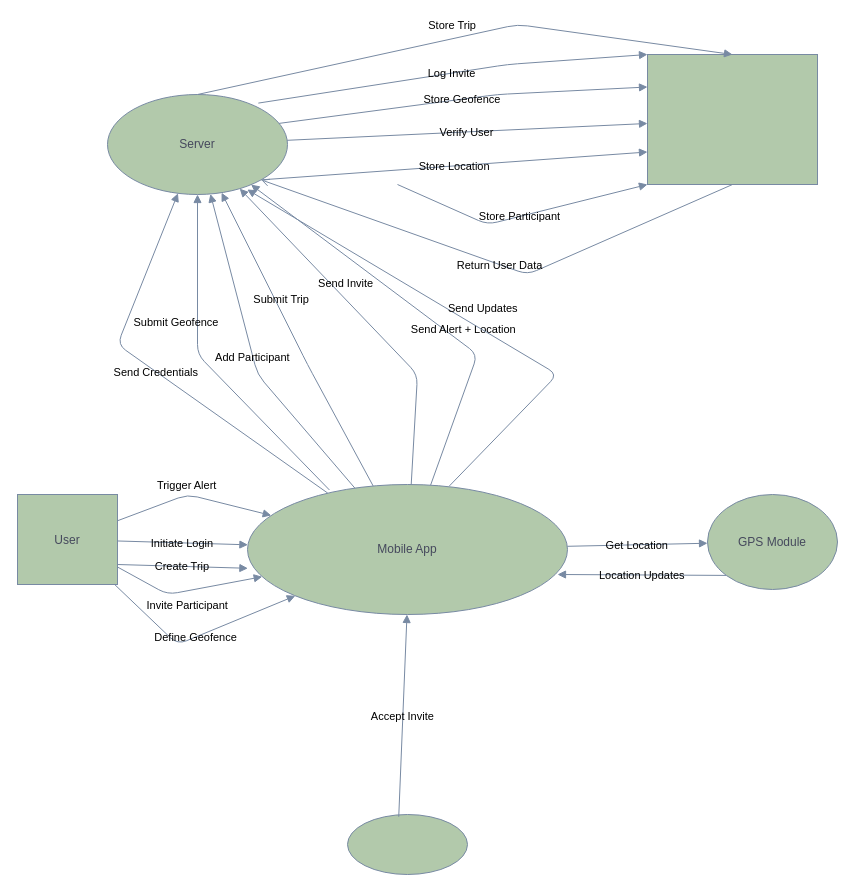
This 855x892 diagram has some shape labels left out. Each missing label, with the box of its shape:
Database: (646, 54, 818, 184)
Participant Mobile: (346, 814, 468, 874)
